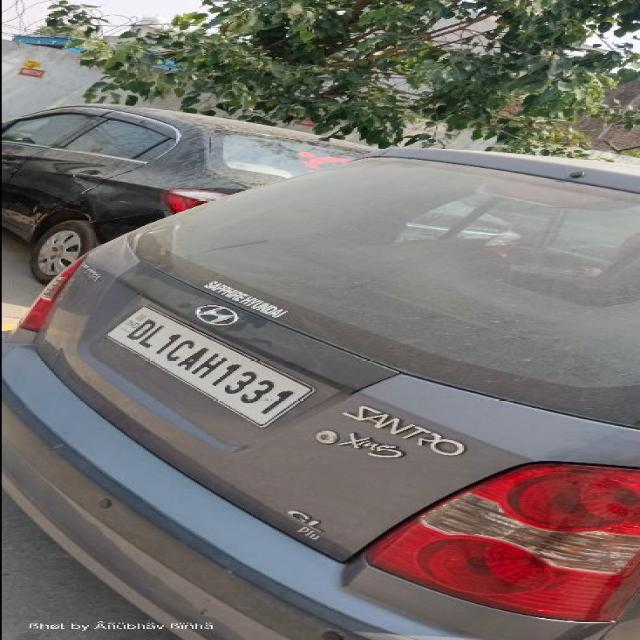license_plate: (101, 304, 318, 428)
